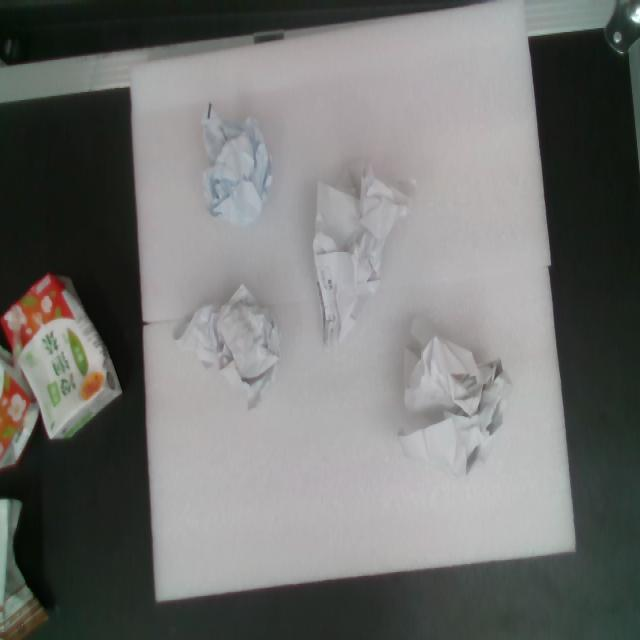paper: (159, 255, 347, 442), (366, 315, 526, 496), (305, 147, 426, 360), (195, 90, 276, 230)
